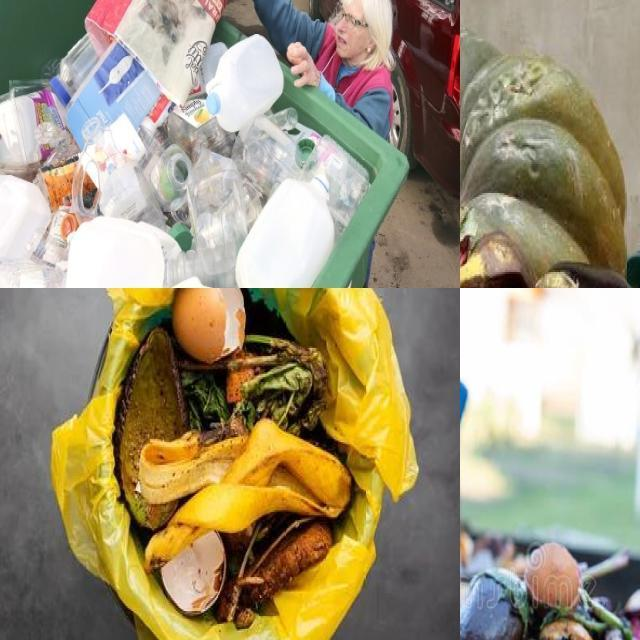Garbage: (0, 0, 375, 288), (107, 288, 360, 626), (460, 24, 634, 288), (460, 527, 640, 640)
Plastic_Container: (236, 182, 334, 288), (206, 36, 284, 132), (302, 134, 369, 226), (0, 89, 66, 173), (233, 115, 301, 196), (0, 176, 50, 259), (58, 34, 98, 96), (110, 114, 147, 162)
Plastic_bottle: (72, 119, 167, 230), (187, 148, 248, 288), (167, 98, 235, 159), (164, 250, 236, 288), (150, 144, 192, 207)
